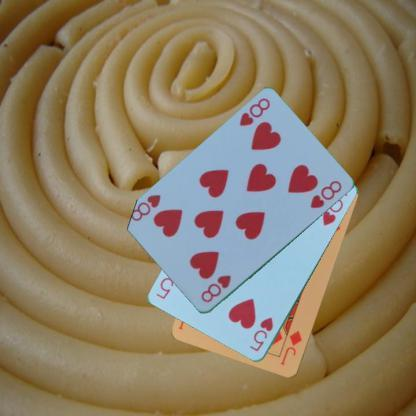5h: (247, 314, 274, 354)
8h: (237, 95, 271, 128), (198, 272, 232, 304)
Jd: (278, 328, 304, 367)
